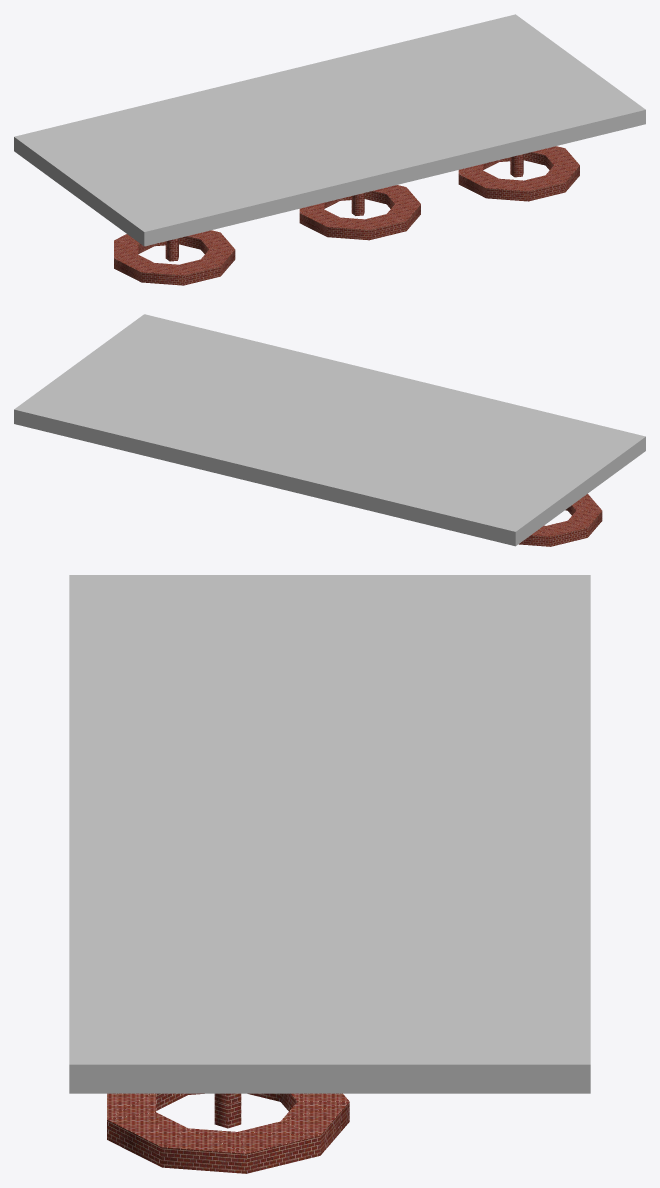
Rendered from terminal.FBX.
The picture shows the model from 3 angles, top to bottom: view 1: azimuth 30°, elevation 25°; view 2: azimuth 150°, elevation 25°; view 3: azimuth 270°, elevation 25°; orthographic projection. The views are drawn at different scales.
Visible parts, largest first — view 1: terminal; view 2: terminal; view 3: terminal.
Part boxes in pixels (x1=…): terminal: x1=14, y1=14, x2=645, y2=285; terminal: x1=14, y1=314, x2=645, y2=546; terminal: x1=69, y1=575, x2=590, y2=1173.
Bounding box in the file's own units: 36.32 × 5 × 16.34.
